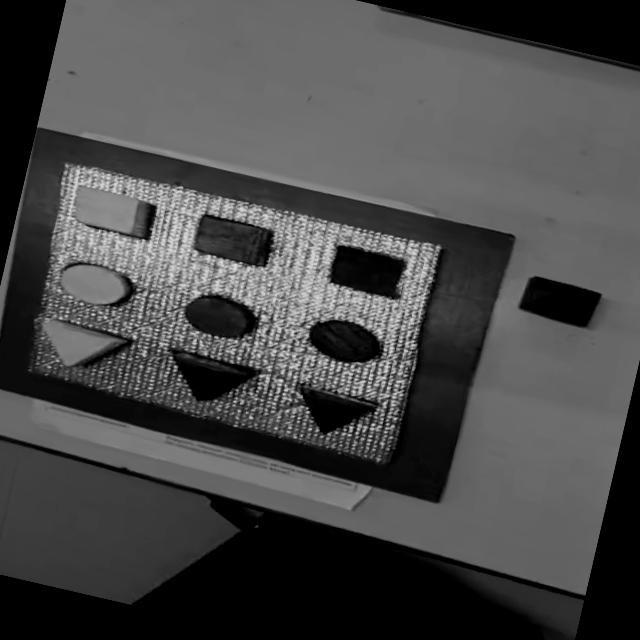bcircle: (304, 314, 384, 370)
bcube: (514, 270, 604, 332)
btriangle: (288, 382, 378, 444)
mtcube: (326, 243, 408, 301)
rcircle: (178, 290, 256, 344)
rcube: (190, 212, 274, 268)
rtriangle: (161, 348, 254, 412)
wb: (10, 158, 448, 468)
ycircle: (52, 256, 137, 314)
ycube: (66, 182, 158, 241)
ytriangle: (30, 314, 131, 380)
